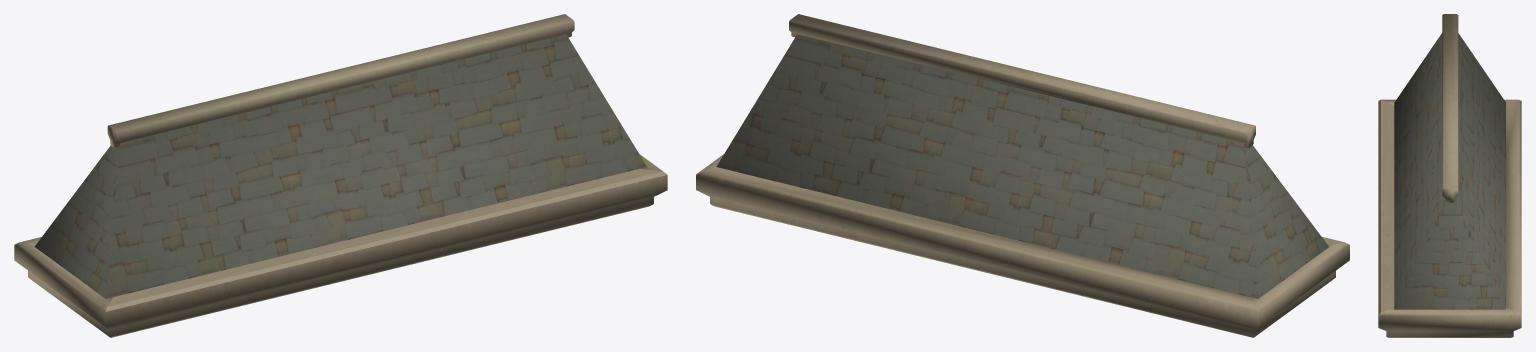
Rendered from ARC0510001.fbx.
3 renders of one model, left to right at view 1: azimuth 30°, elevation 25°; view 2: azimuth 150°, elevation 25°; view 3: azimuth 270°, elevation 25°, orthographic. The views are drawn at different scales.
Visible parts, largest first — view 1: smARC0510001; view 2: smARC0510001; view 3: smARC0510001.
Boxes of the visible parts, x1,y1,x2,y2 form: smARC0510001: (14, 14, 667, 337); smARC0510001: (696, 14, 1349, 337); smARC0510001: (1378, 14, 1521, 337).
Size of the model in its own units: 640 by 186 by 180.
1 material, 1 textured.
